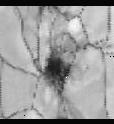good_void: (42, 47, 71, 96)
